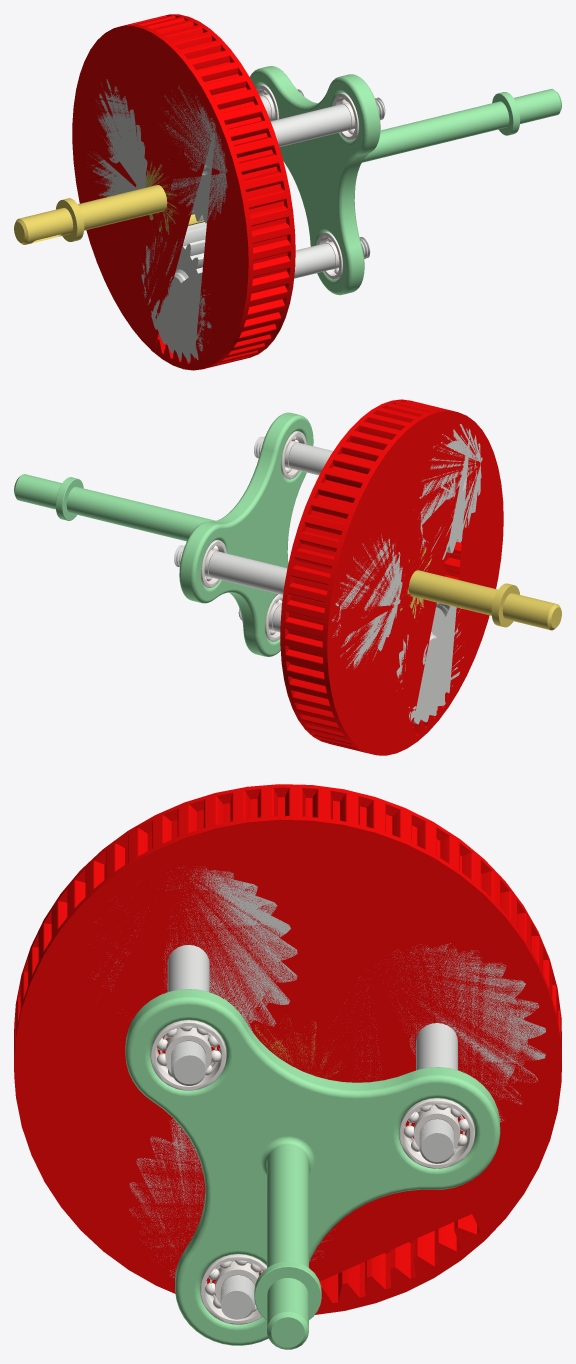
File: planetary gear.fbx
3 renders of one model, top to bottom at view 1: azimuth 30°, elevation 25°; view 2: azimuth 150°, elevation 25°; view 3: azimuth 270°, elevation 25°, orthographic. The views are drawn at different scales.
Visible parts, largest first — view 1: Gear1 Ring.001, Carrier.001, Gear2 Planet.003, Gear2 Planet.004, Gear3 Sun.001, Gear2 Planet.005, angular contact ball bearing_68_iso.003, angular contact ball bearing_68_iso.004; view 2: Gear1 Ring.001, Carrier.001, Gear2 Planet.005, Gear3 Sun.001, Gear2 Planet.003, Gear2 Planet.004, angular contact ball bearing_68_iso.004, angular contact ball bearing_68_iso.005, angular contact ball bearing_68_iso.003; view 3: Gear1 Ring.001, Carrier.001, Gear2 Planet.003, Gear2 Planet.005, Gear2 Planet.004, angular contact ball bearing_68_iso.005, angular contact ball bearing_68_iso.004, angular contact ball bearing_68_iso.003.
Boxes of the visible parts, x1,y1,x2,y2 form: Gear1 Ring.001: [72, 14, 295, 370]; Carrier.001: [250, 66, 561, 295]; Gear2 Planet.003: [160, 86, 385, 223]; Gear2 Planet.004: [141, 222, 370, 362]; Gear3 Sun.001: [14, 161, 204, 244]; Gear2 Planet.005: [88, 79, 304, 196]; angular contact ball bearing_68_iso.003: [317, 231, 342, 279]; angular contact ball bearing_68_iso.004: [333, 92, 358, 140]; Gear1 Ring.001: [280, 399, 503, 755]; Carrier.001: [14, 412, 313, 656]; Gear2 Planet.005: [174, 534, 402, 668]; Gear3 Sun.001: [400, 547, 561, 630]; Gear2 Planet.003: [254, 424, 482, 559]; Gear2 Planet.004: [238, 602, 463, 724]; angular contact ball bearing_68_iso.004: [281, 431, 306, 479]; angular contact ball bearing_68_iso.005: [201, 540, 226, 588]; angular contact ball bearing_68_iso.003: [265, 594, 282, 641]; Gear1 Ring.001: [14, 784, 561, 1314]; Carrier.001: [125, 989, 500, 1349]; Gear2 Planet.003: [94, 866, 297, 1085]; Gear2 Planet.005: [354, 943, 545, 1163]; Gear2 Planet.004: [129, 1119, 333, 1319]; angular contact ball bearing_68_iso.005: [399, 1098, 474, 1168]; angular contact ball bearing_68_iso.004: [150, 1020, 226, 1090]; angular contact ball bearing_68_iso.003: [200, 1254, 266, 1324].
Bounding box in the file's own units: 11.43 × 6.5 × 6.5.
